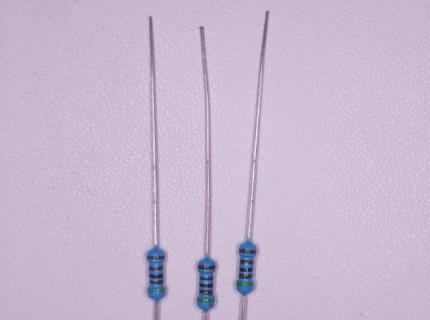Black band: (200, 283, 213, 288), (240, 267, 253, 272), (149, 274, 163, 278)
Brown band: (239, 248, 256, 253), (199, 289, 213, 295), (147, 255, 165, 259), (240, 259, 254, 264), (149, 266, 163, 271), (198, 265, 215, 269), (239, 273, 252, 278), (200, 276, 213, 280), (150, 280, 163, 284)
Green band: (198, 298, 215, 303), (237, 282, 254, 286), (147, 289, 165, 292)
